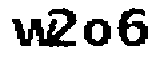2: (49, 6, 78, 51)
6: (116, 6, 149, 49)
o: (83, 17, 113, 48)
w: (11, 17, 56, 48)
